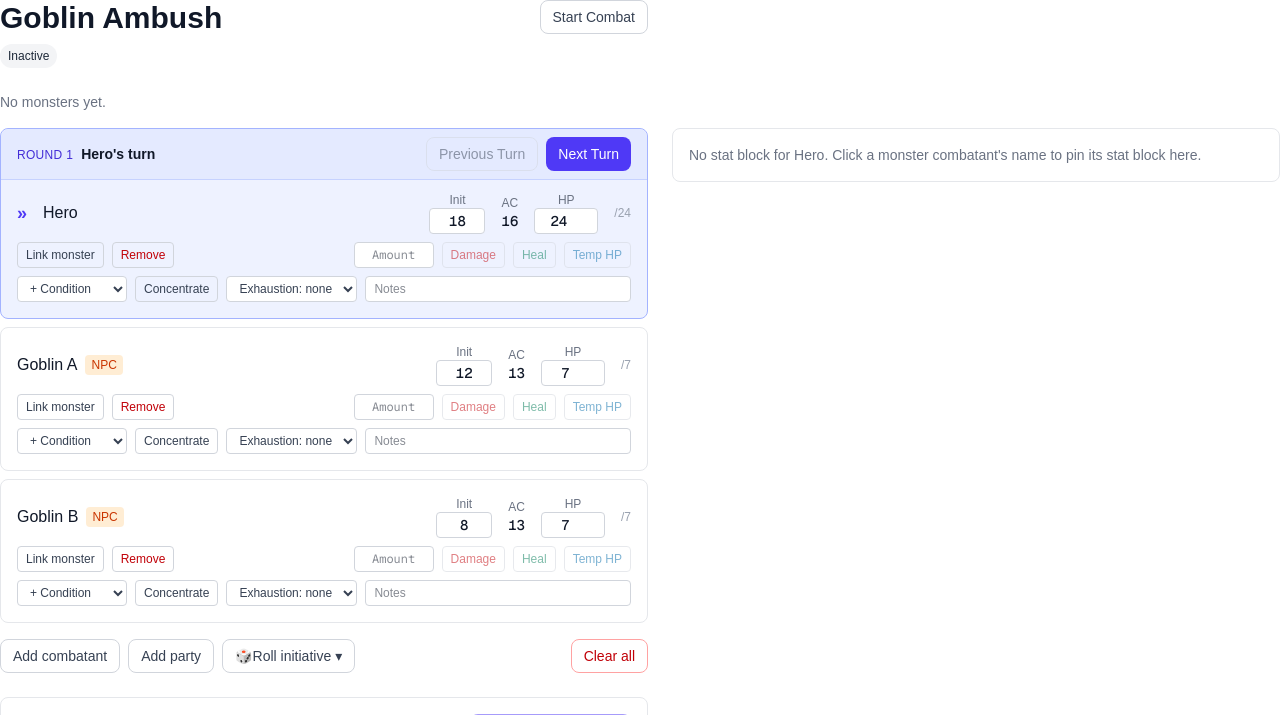
Test: InitiativeTrackerPage › add party PCs › passes the encounter combatant names so already-present PCs start deselected
Expected: the heading "Goblin Ambush" is shown, 0,0 -> 222,36
Click the button "Add party".
click(171, 656)  # box 128,639 -> 214,673
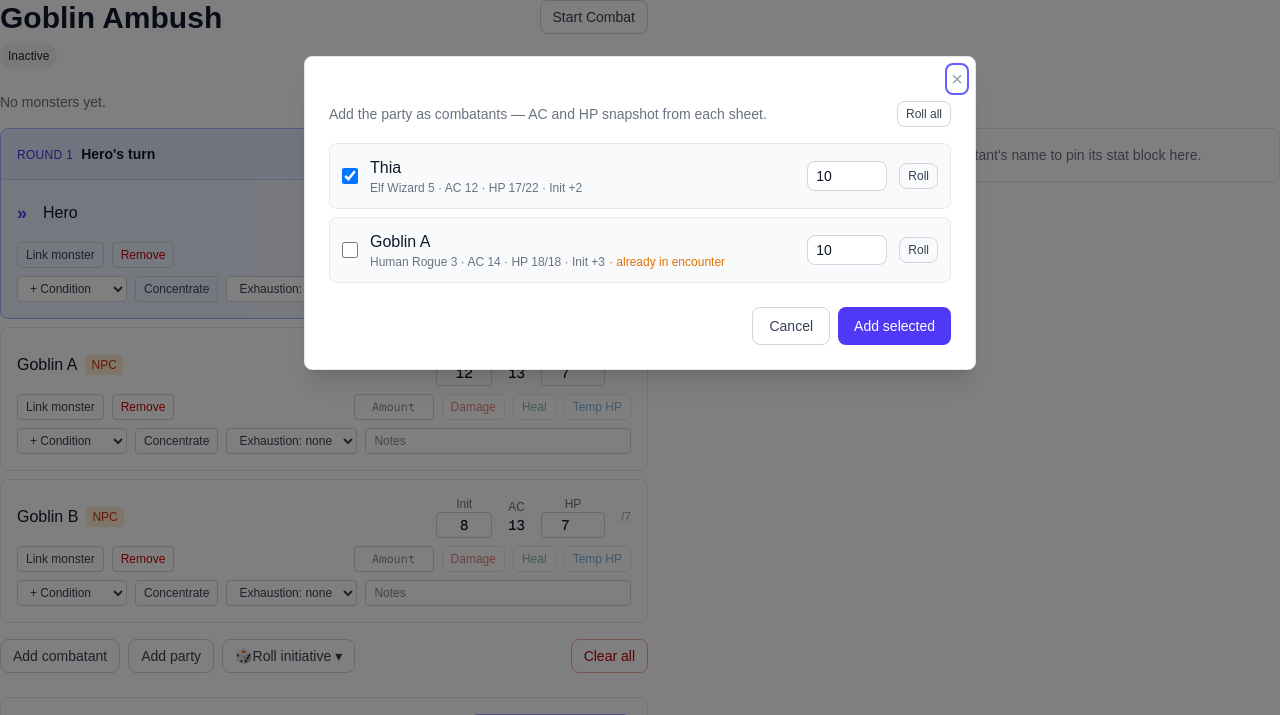
Result: the text "Thia" is shown at 370,159 -> 401,176
Result: the checkbox named "add thia" is checked at 342,168 -> 358,184
Result: the checkbox named "add goblin a" is not checked at 342,242 -> 358,258
